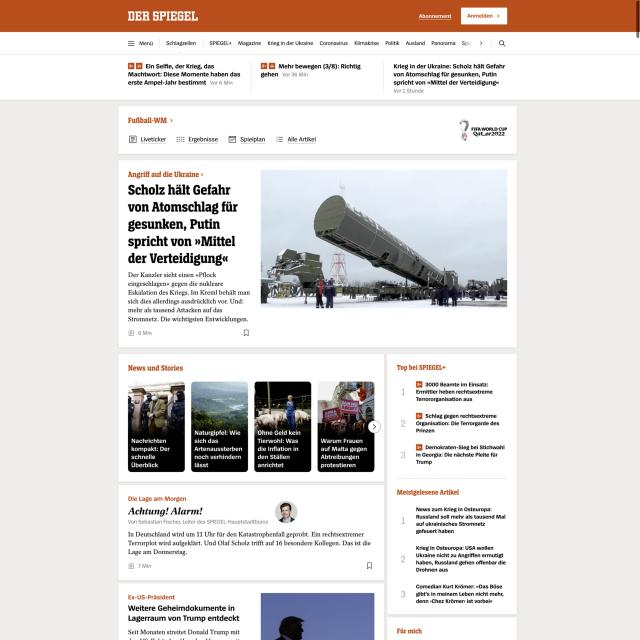logo: (452, 118, 511, 145), (126, 8, 199, 25)
navigation: (164, 35, 487, 51), (128, 131, 321, 146), (125, 37, 155, 49)
